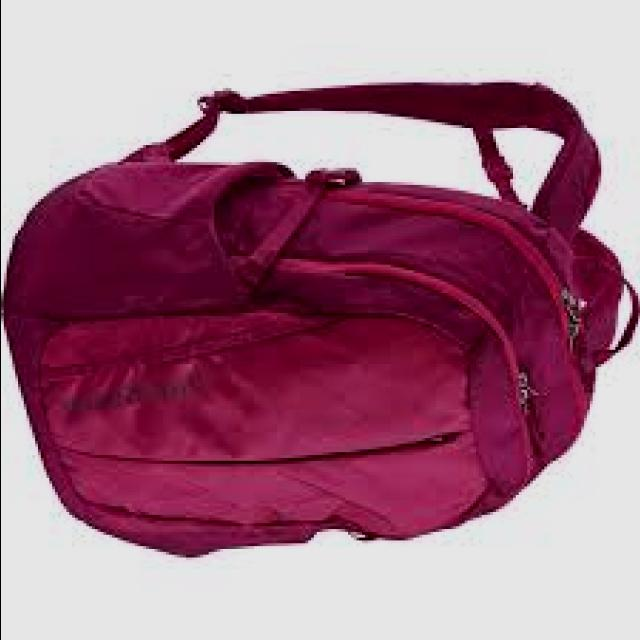backpack: (4, 78, 640, 558)
